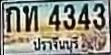3: (92, 2, 104, 29), (62, 3, 74, 29)
4: (77, 3, 89, 29), (49, 4, 60, 30)
A01: (6, 5, 19, 32)
A23: (22, 5, 38, 31)
PRI: (31, 36, 80, 54)
